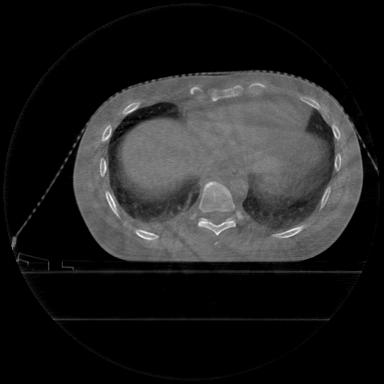body: (70, 70, 365, 261)
cord: (198, 182, 236, 236)
paru kanan: (108, 99, 196, 225)
paru kiri: (243, 111, 334, 230)
